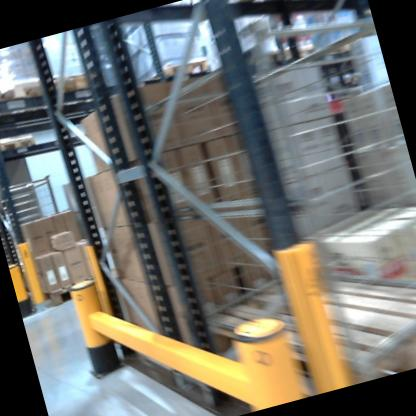pallet: (179, 220, 416, 416), (38, 271, 103, 316), (211, 0, 317, 27), (0, 70, 54, 119), (44, 64, 105, 106), (151, 54, 219, 88), (0, 125, 48, 164)
